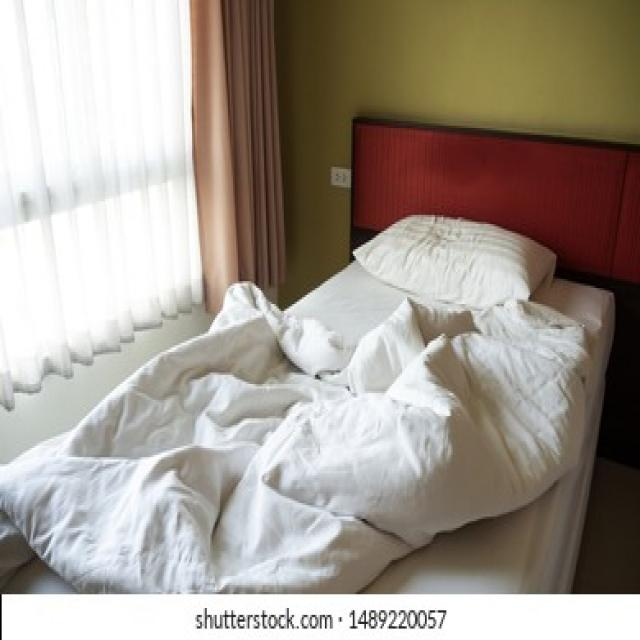bed: (4, 186, 620, 582)
